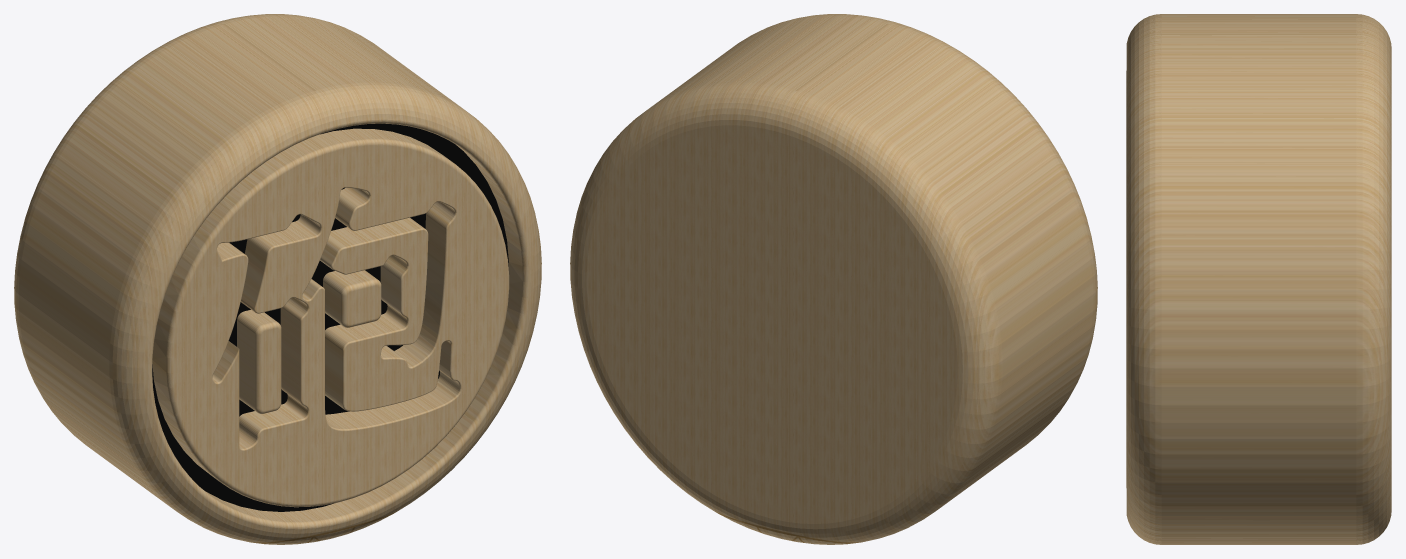
The model's file is h01_chess_black_cannon.obj.
3 renders of one model, left to right at view 1: azimuth 30°, elevation 25°; view 2: azimuth 150°, elevation 25°; view 3: azimuth 270°, elevation 25°, orthographic. The views are drawn at different scales.
Bounding box in the file's own units: 0.03 × 0.03 × 0.015.
Materials: 2 (1 with a texture image).
